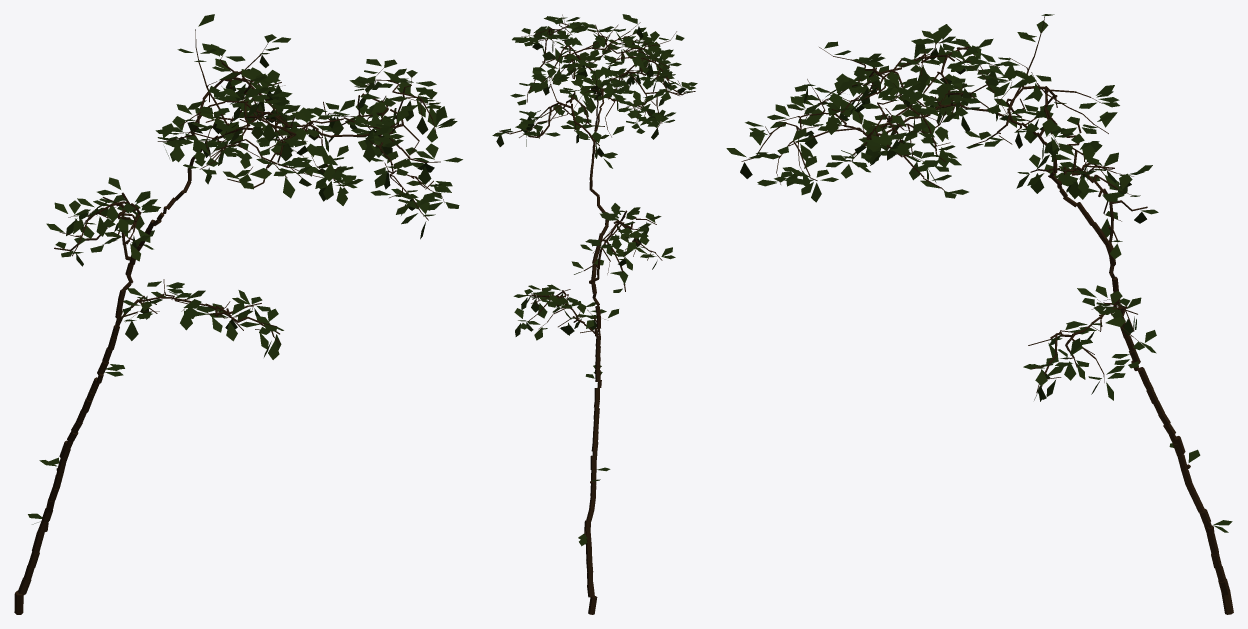
File: tree_523.obj
The picture shows the model from 3 angles, left to right: view 1: azimuth 30°, elevation 25°; view 2: azimuth 150°, elevation 25°; view 3: azimuth 270°, elevation 25°; orthographic projection. The views are drawn at different scales.
Parts seen in each view (by area): view 1: Leaves, TrunkAndBranches; view 2: Leaves, TrunkAndBranches; view 3: Leaves, TrunkAndBranches.
Part boxes in pixels (x1,y1,x2,y2): Leaves: (28, 14, 462, 524); TrunkAndBranches: (14, 29, 444, 614); Leaves: (492, 14, 697, 546); TrunkAndBranches: (499, 14, 695, 614); Leaves: (726, 14, 1232, 532); TrunkAndBranches: (741, 16, 1233, 614).
Bounding box in the file's own units: 4.53 × 9.44 × 6.67.
